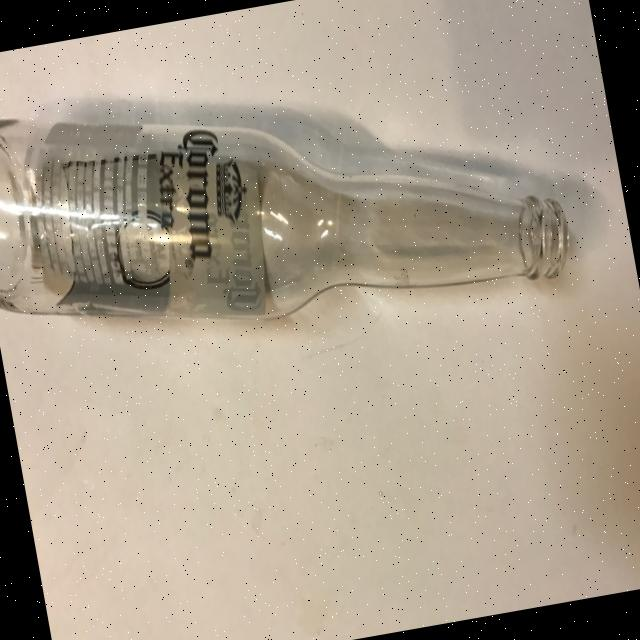glass: (0, 21, 576, 376)
